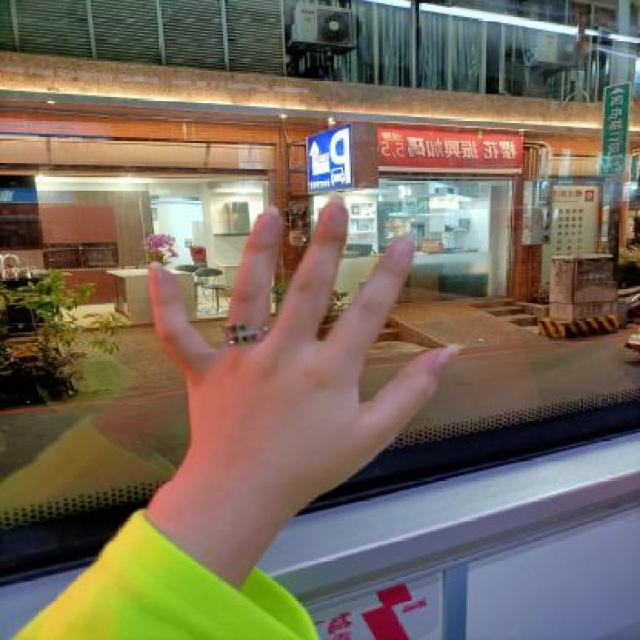bare_hand: (132, 180, 468, 546)
